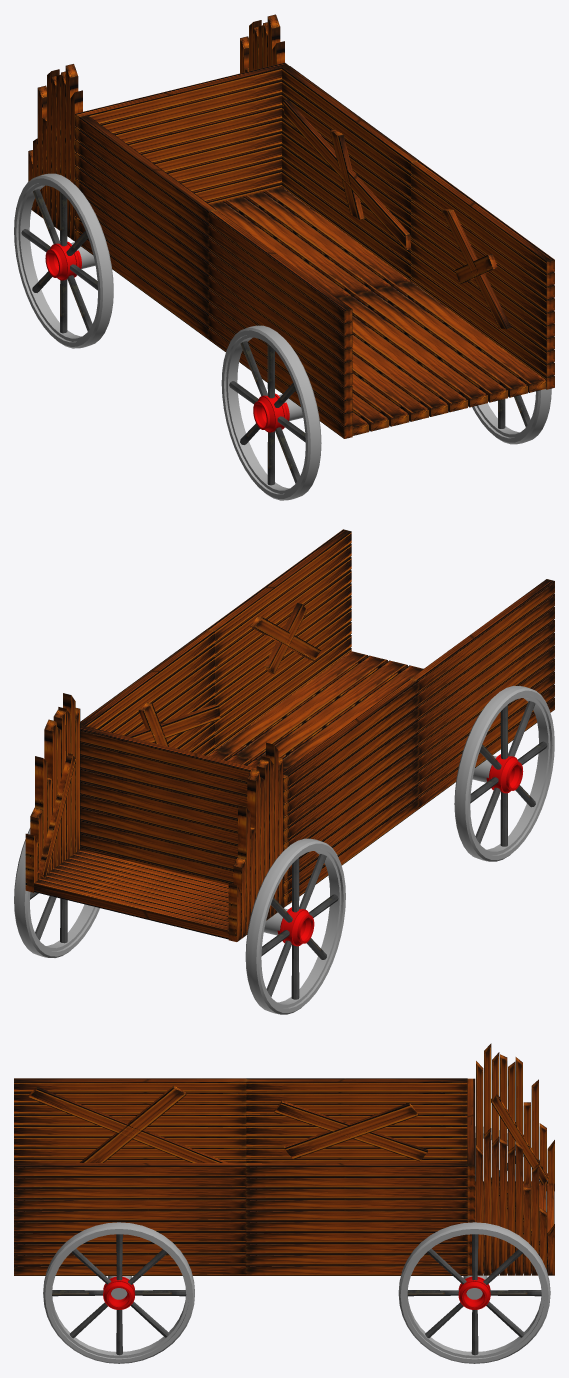
File: wagon.fbx
3 renders of one model, top to bottom at view 1: azimuth 30°, elevation 25°; view 2: azimuth 150°, elevation 25°; view 3: azimuth 270°, elevation 25°, orthographic. The views are drawn at different scales.
Visible parts, largest first — view 1: pCylinder5; view 2: pCylinder5; view 3: pCylinder5.
Boxes of the visible parts, x1,y1,x2,y2 form: pCylinder5: (14,14,554,500); pCylinder5: (14,529,554,1014); pCylinder5: (14,1043,554,1363).
Size of the model in its own units: 517 by 521 by 1122.
